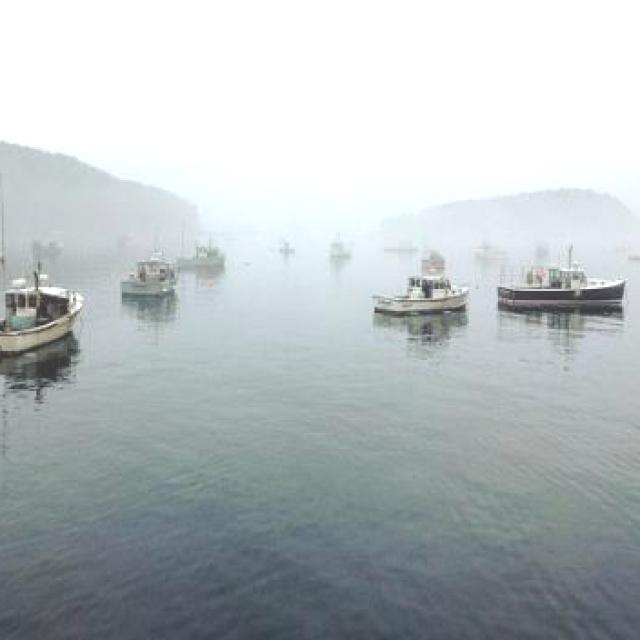ship: (494, 245, 626, 319), (0, 270, 85, 354), (374, 266, 472, 318), (115, 225, 172, 302), (173, 233, 225, 267)
